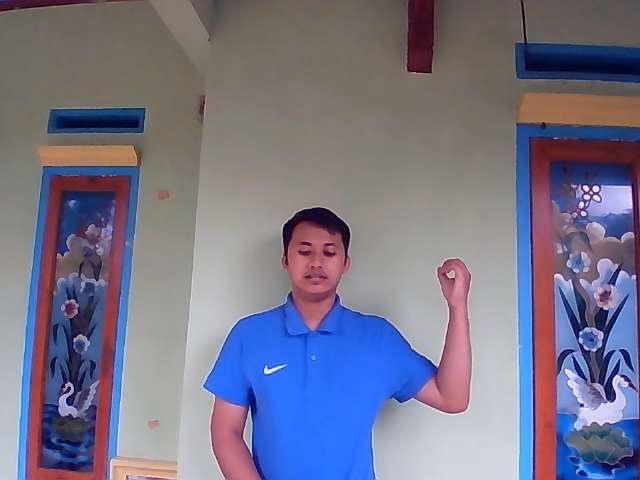O: (435, 256, 475, 306)
